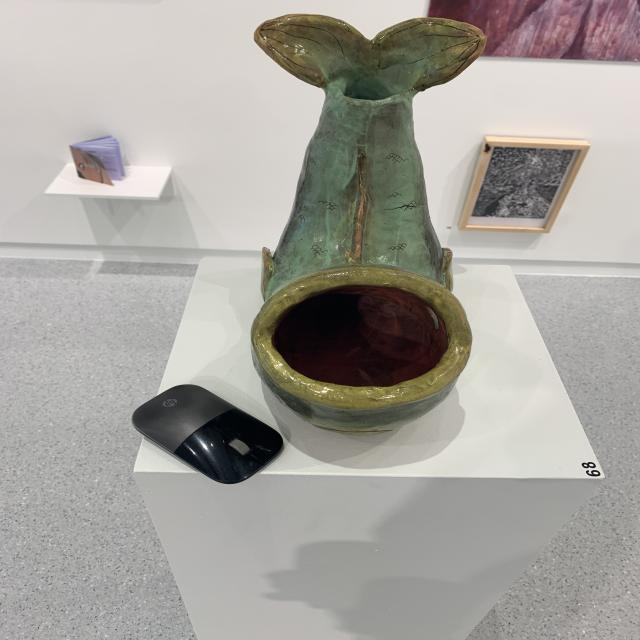Mouse: (123, 383, 293, 485)
